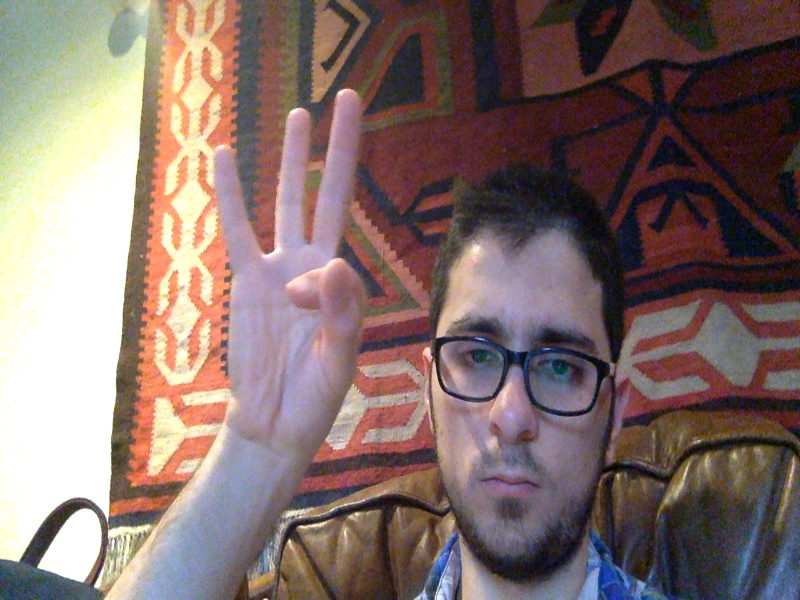3-hand: (213, 90, 363, 451)
